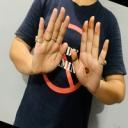hand: (70, 15, 109, 95), (31, 6, 70, 74)
